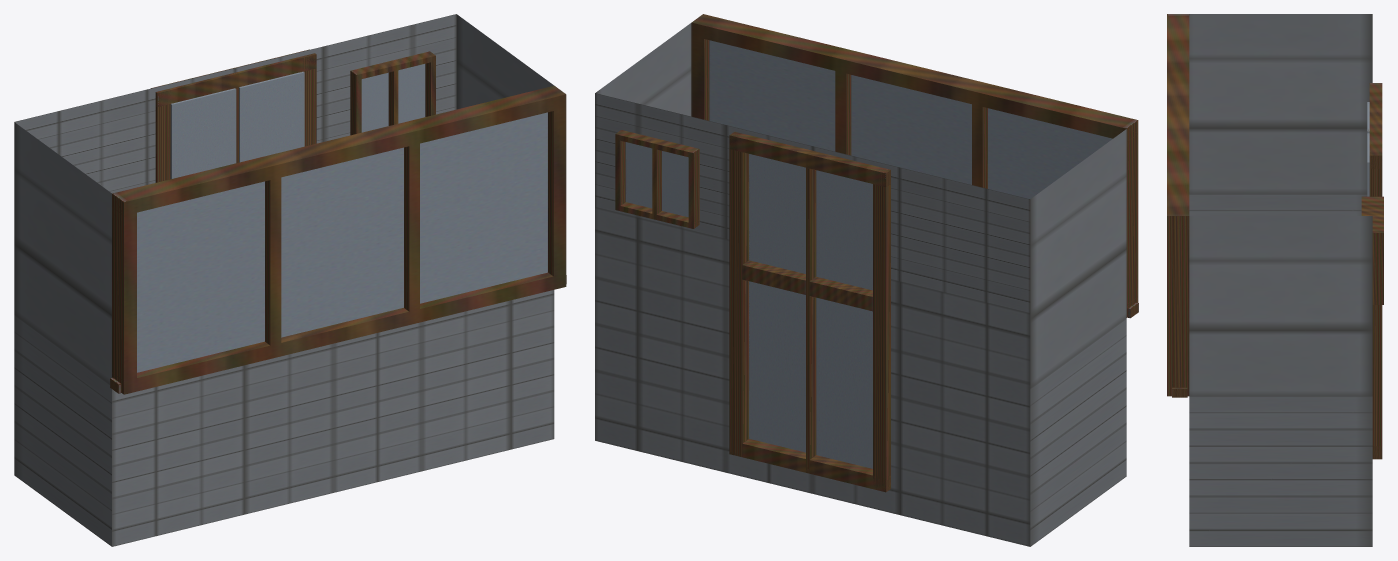
Rendered from balcony.obj.
The picture shows the model from 3 angles, left to right: view 1: azimuth 30°, elevation 25°; view 2: azimuth 150°, elevation 25°; view 3: azimuth 270°, elevation 25°; orthographic projection. The views are drawn at different scales.
Size of the model in its own units: 3.04 by 2.29 by 1.36.
